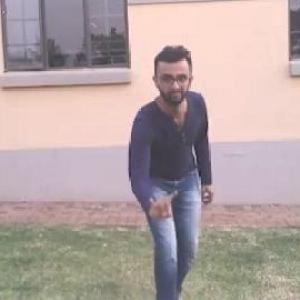takeoff-hand: (144, 178, 179, 226)
